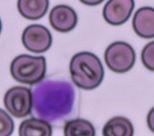L: (29, 76, 79, 126)
